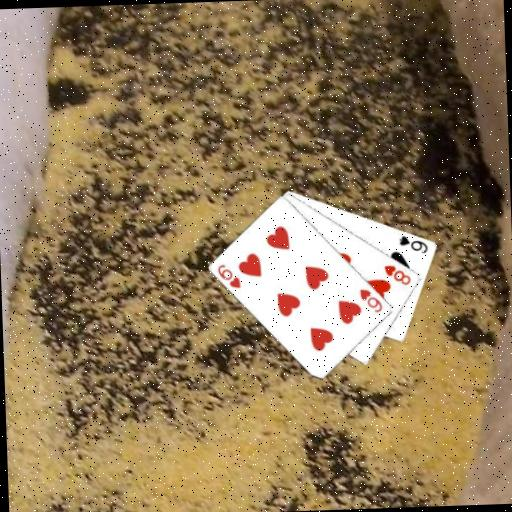6H: (356, 285, 384, 315), (214, 260, 242, 290)
6S: (396, 232, 430, 255)
8H: (381, 261, 412, 287)
